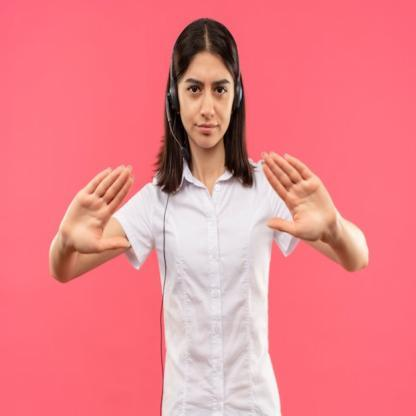stop: (257, 146, 338, 244), (58, 158, 136, 258)
